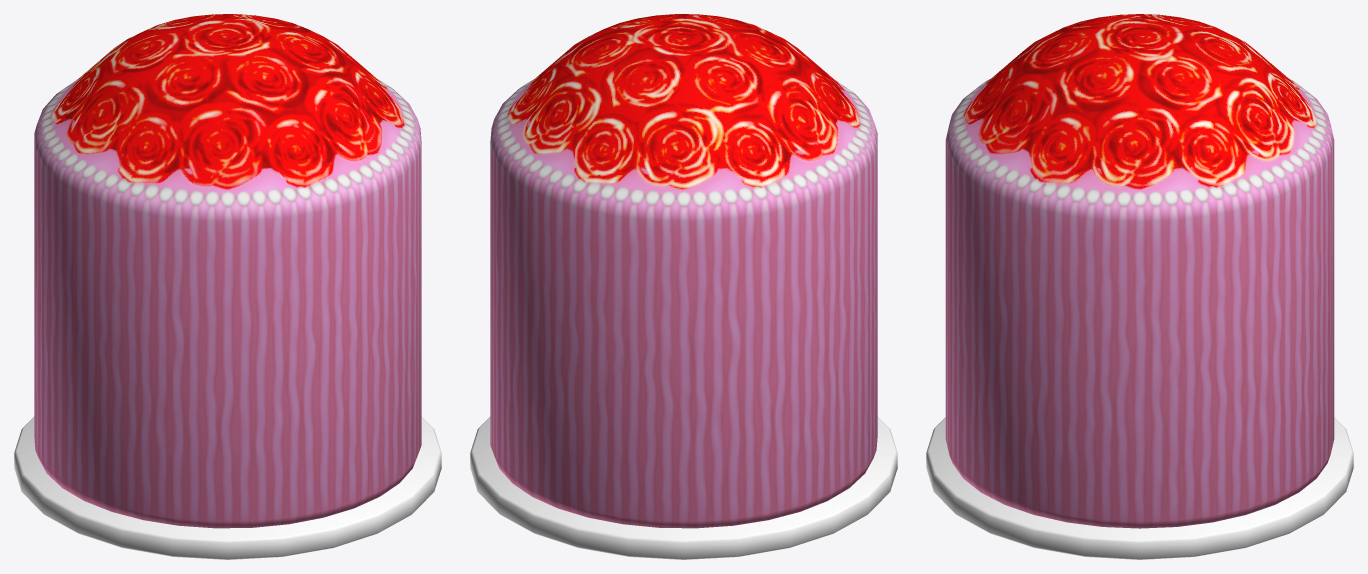
Rendered from BuffetCakes01_3.FBX.
The picture shows the model from 3 angles, left to right: view 1: azimuth 30°, elevation 25°; view 2: azimuth 150°, elevation 25°; view 3: azimuth 270°, elevation 25°; orthographic projection.
Visible parts, largest first — view 1: BuffetCakes01_3; view 2: BuffetCakes01_3; view 3: BuffetCakes01_3.
Part boxes in pixels (left/top/right/bottom): BuffetCakes01_3: left=14, top=14, right=441, bottom=559; BuffetCakes01_3: left=470, top=14, right=897, bottom=559; BuffetCakes01_3: left=926, top=14, right=1353, bottom=559.
Size of what is drawn, in the model's own units: 0.4745 by 0.5315 by 0.4745.
